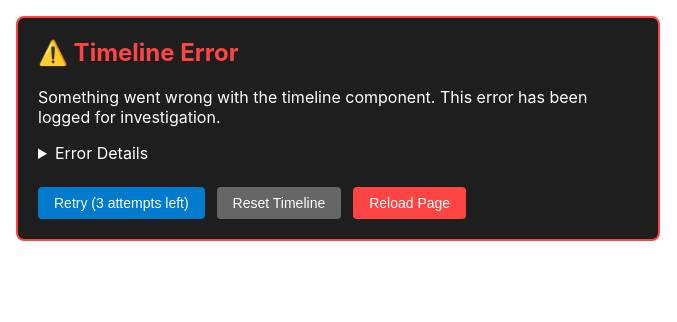
Test: TimelineErrorBoundary › Error Recovery › should disable retry after maximum attempts
The image size is (677, 322).
Exhaust all retry attempts
Click the button "Retry (3 attempts left)": {"x": 121, "y": 203} [38,187,205,219]
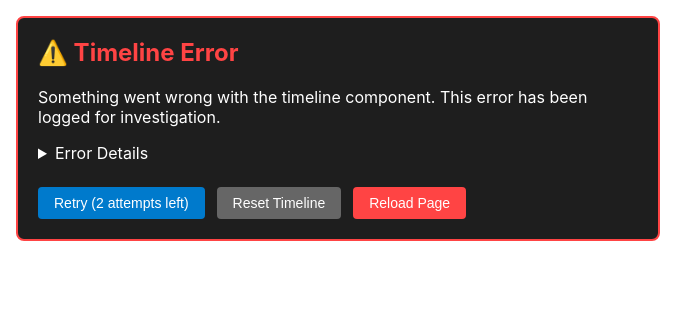
Click the button "Retry (2 attempts left)": {"x": 121, "y": 203} [38,187,205,219]
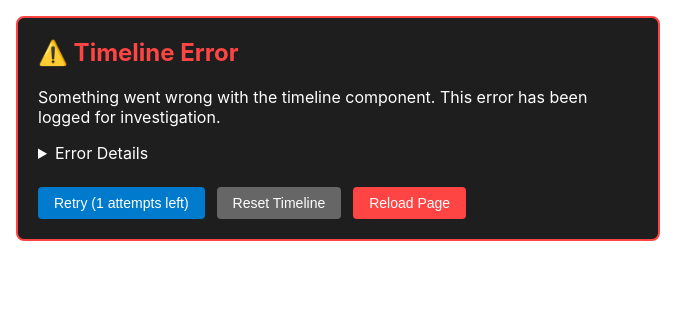
Click the button "Retry (1 attempts left)": {"x": 121, "y": 203} [38,187,205,219]
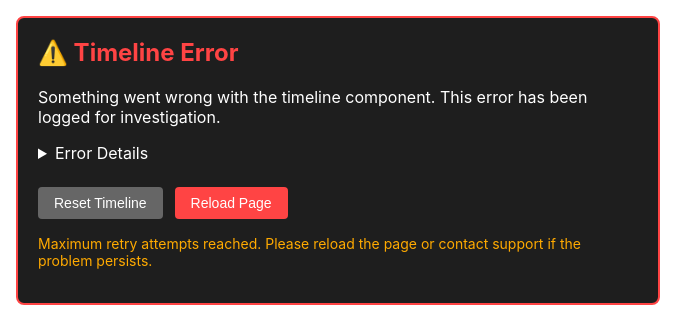
Result: the text "Maximum retry attempts reached" is shown at [38,235,581,269]
